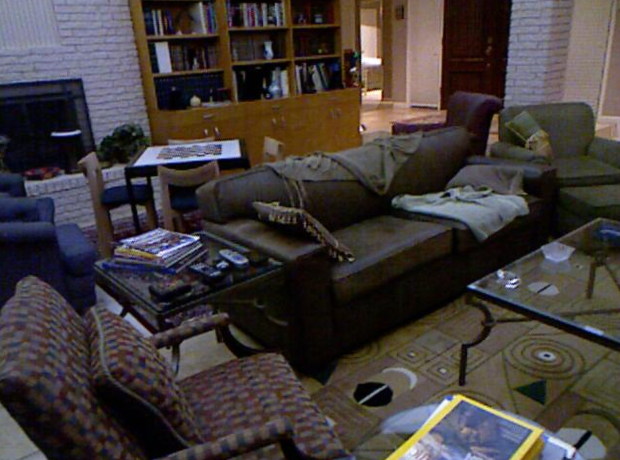cabinet: (139, 0, 344, 86)
cabinetDoor: (316, 108, 335, 143), (337, 105, 356, 140), (281, 112, 300, 146), (254, 115, 280, 135), (186, 124, 211, 142), (215, 121, 240, 139)
chair: (78, 151, 152, 233), (157, 160, 218, 230), (262, 137, 285, 161)
couch: (0, 312, 228, 458), (205, 180, 455, 311), (497, 104, 619, 180)
door: (443, 3, 491, 89)
table: (460, 218, 620, 389), (125, 139, 246, 171)
